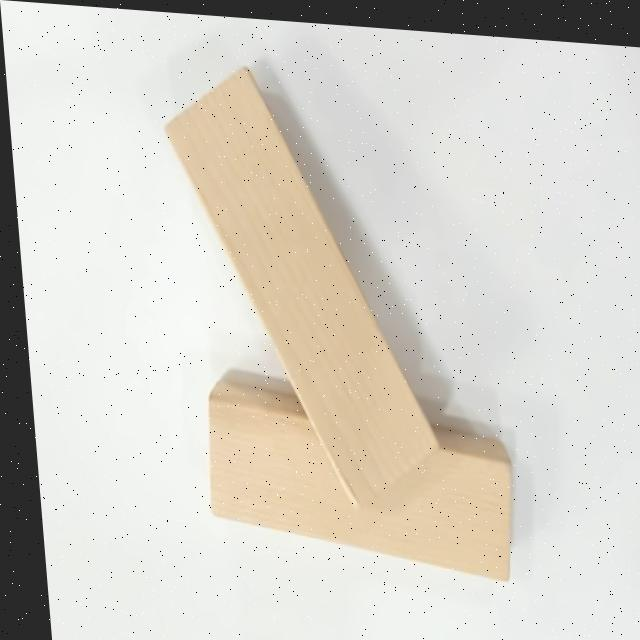Jenga: (159, 55, 440, 514), (192, 373, 515, 579)
